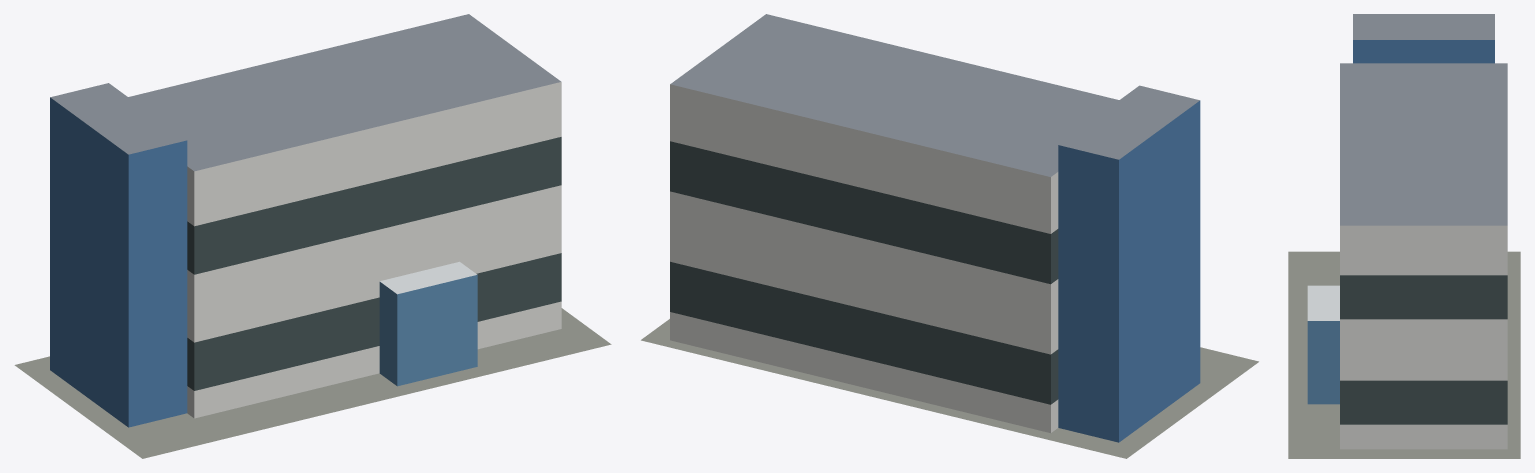
The model's file is mashup-admin-far.fbx.
3 views of the same model, side by side, from view 1: azimuth 30°, elevation 25°; view 2: azimuth 150°, elevation 25°; view 3: azimuth 270°, elevation 25° (orthographic). The views are drawn at different scales.
Visible parts, largest first — view 1: a1074/0/mashup-admin-far; view 2: a1074/0/mashup-admin-far; view 3: a1074/0/mashup-admin-far.
Part boxes in pixels (x1,y1,x2,y2): a1074/0/mashup-admin-far: (14, 14, 611, 458); a1074/0/mashup-admin-far: (641, 14, 1258, 458); a1074/0/mashup-admin-far: (1288, 14, 1520, 458).
Size of the model in its own units: 15.2 by 8.6 by 7.2.
